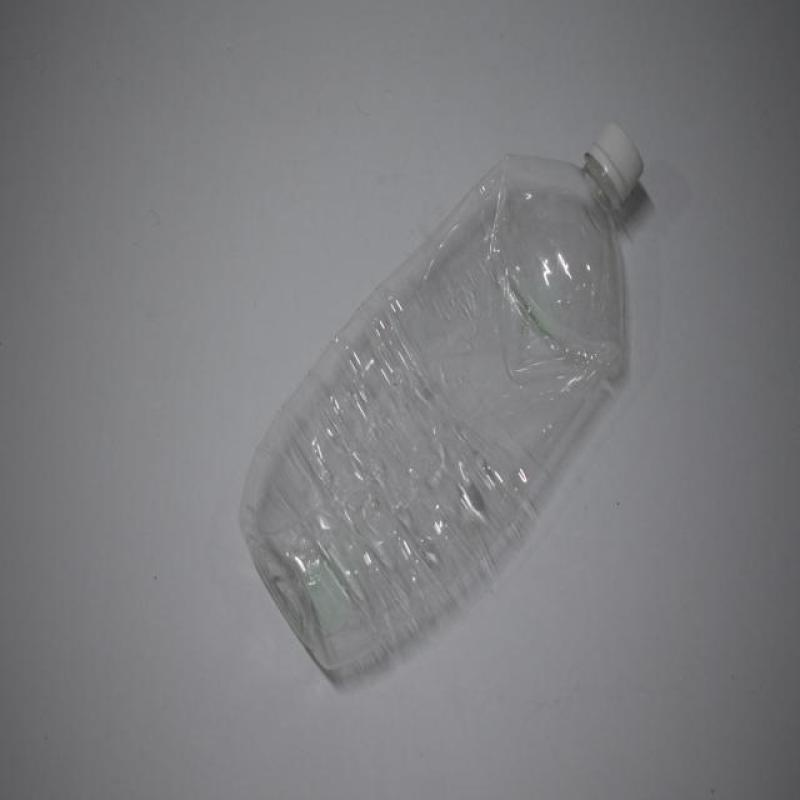botella: (242, 125, 648, 679)
